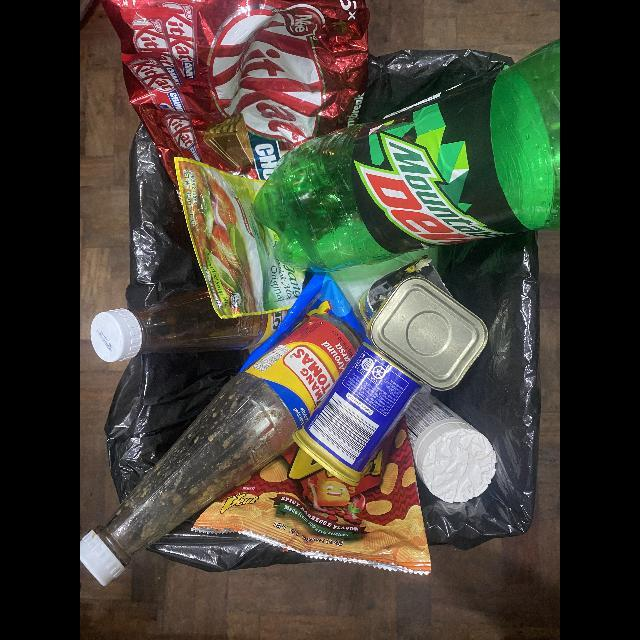glass: (80, 314, 361, 587), (90, 287, 288, 363)
metal: (292, 343, 422, 487), (359, 257, 488, 390)
plastic: (252, 39, 560, 273), (405, 394, 497, 503)
wrapper: (101, 0, 371, 191), (192, 422, 432, 575), (174, 157, 305, 320), (238, 274, 373, 374)
